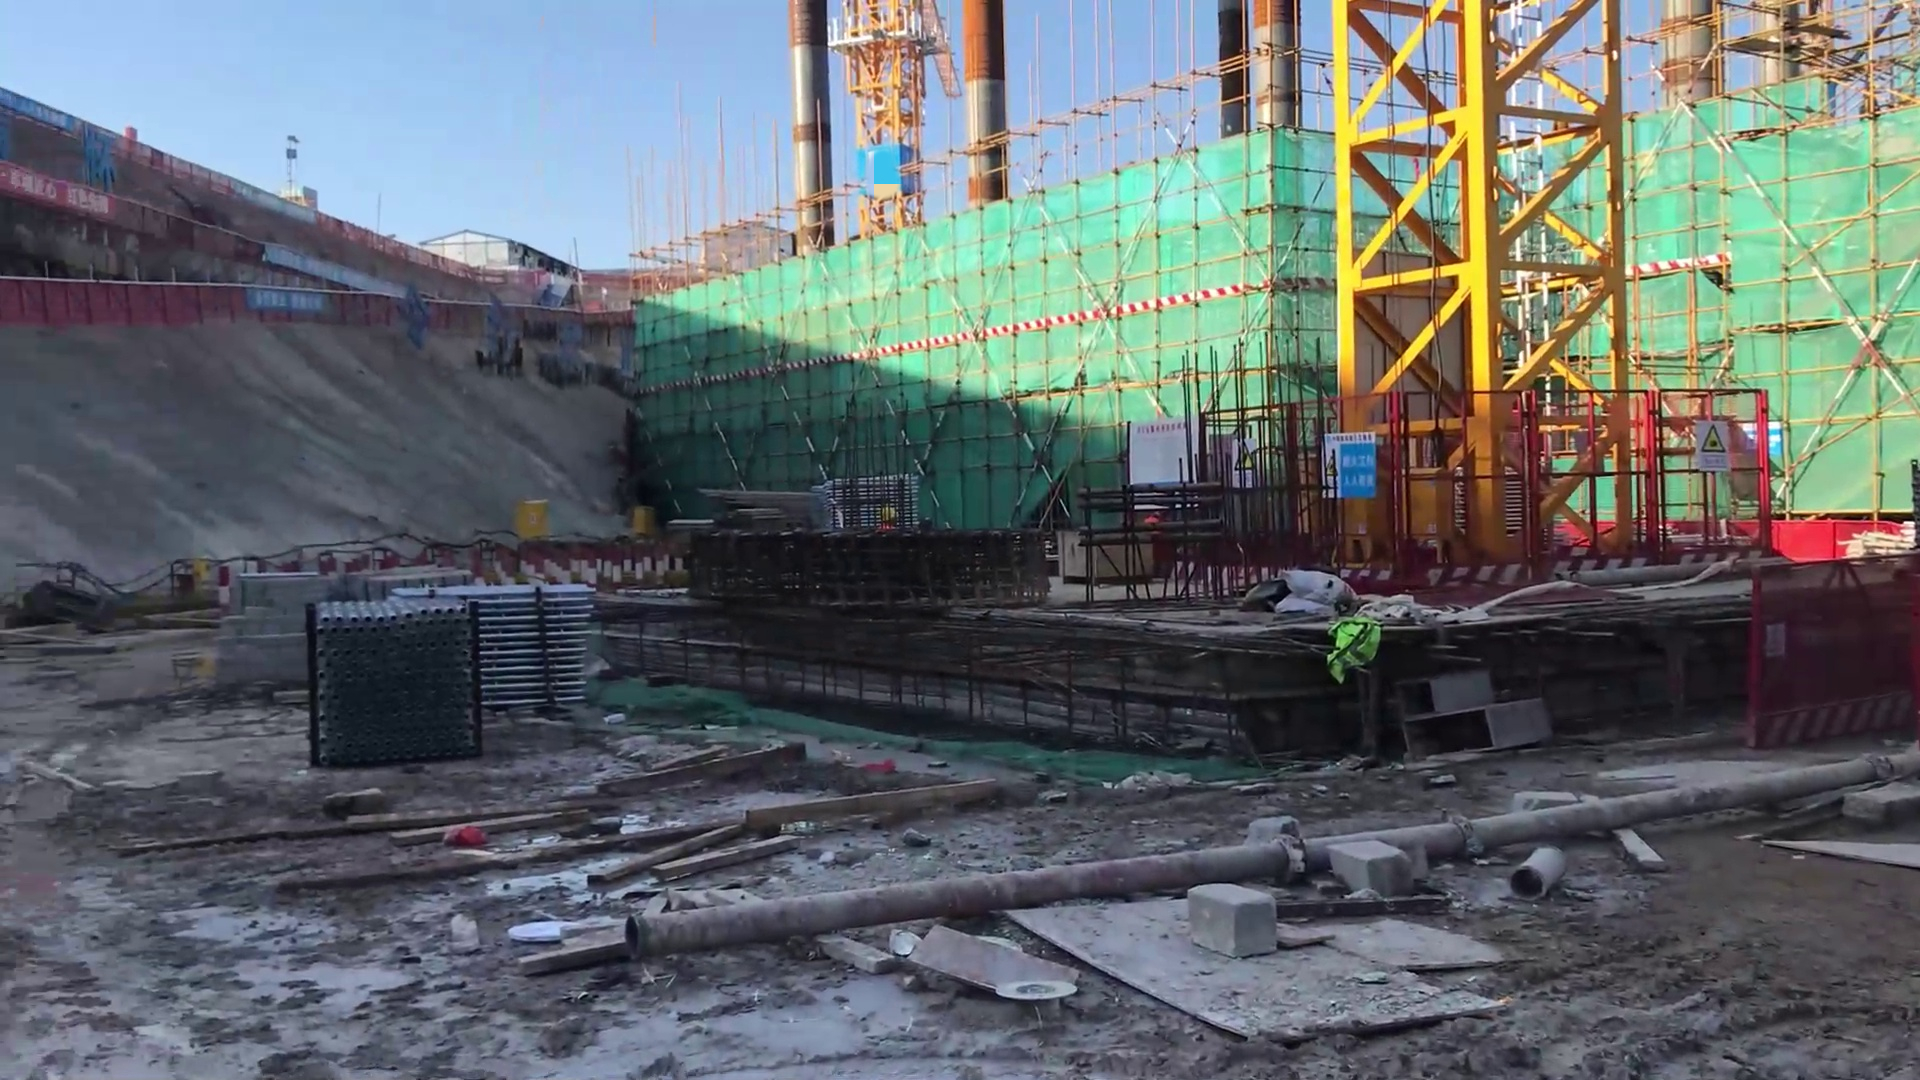ebox: (506, 495, 549, 541), (625, 502, 651, 538)
fence: (1395, 389, 1673, 567), (1747, 558, 1894, 741), (4, 293, 458, 331)
scaffold: (307, 585, 464, 745), (458, 582, 584, 723)
slogan: (1312, 435, 1377, 498), (1693, 419, 1731, 472)
